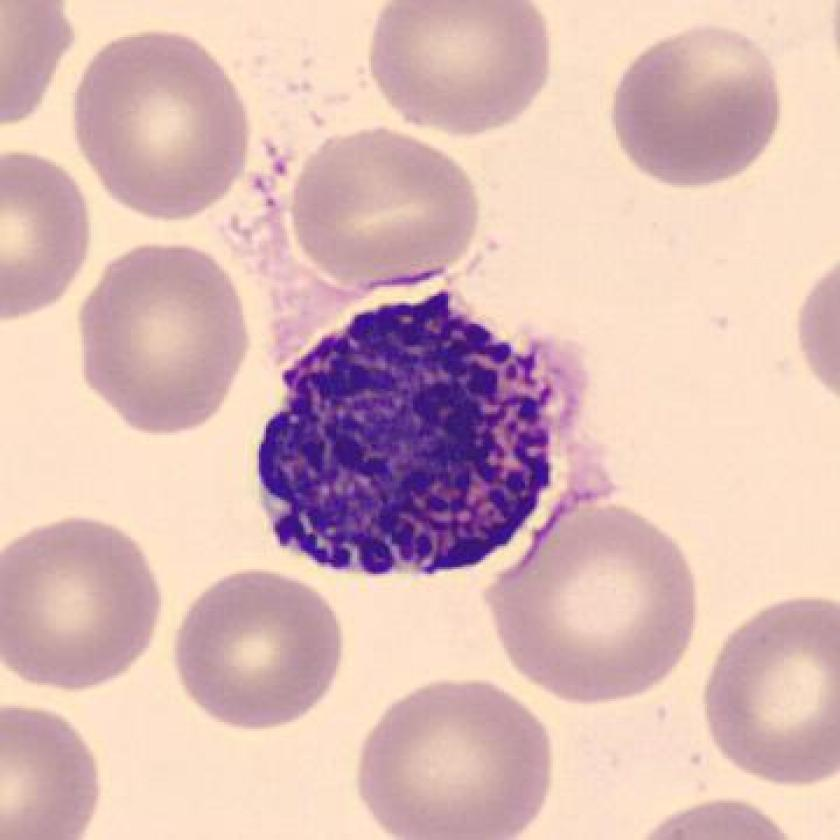basophil: (253, 288, 566, 584)
